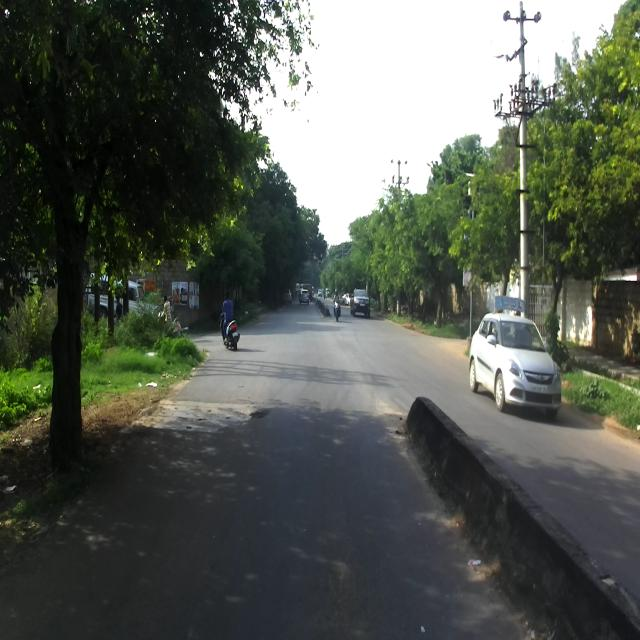motorcycle ahead at: (214, 289, 243, 356)
tree ahead at: (37, 147, 98, 474)
